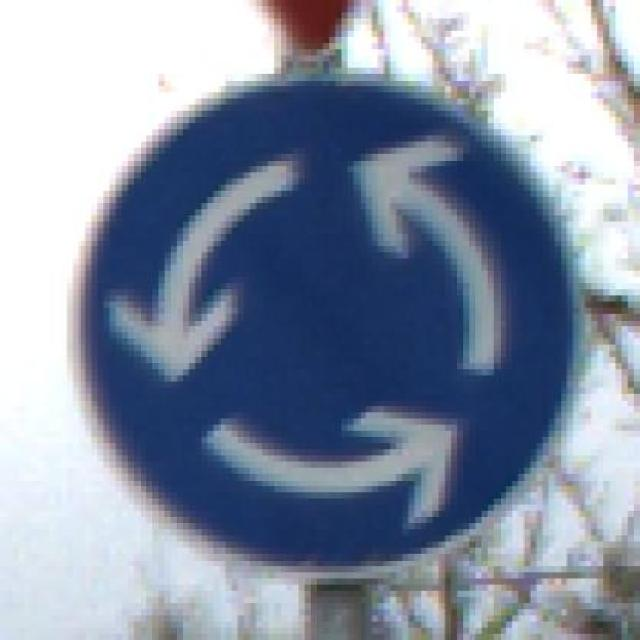Round-About: (30, 55, 616, 591)
